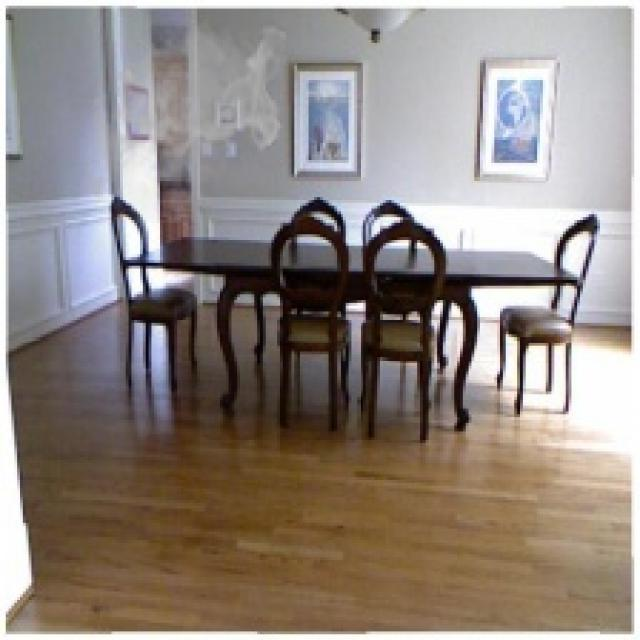Smoke: (77, 14, 286, 223)
